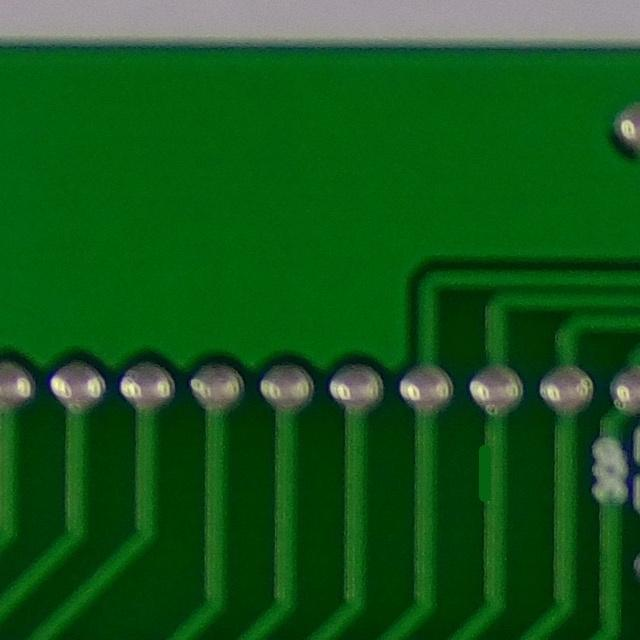spur: (461, 428, 510, 507)
